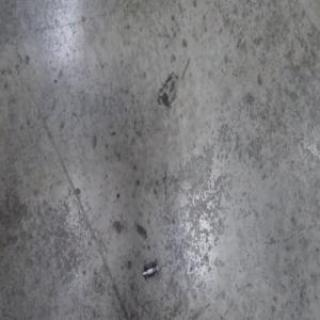Bolttrack_idkeyframe: (143, 259, 160, 281)
